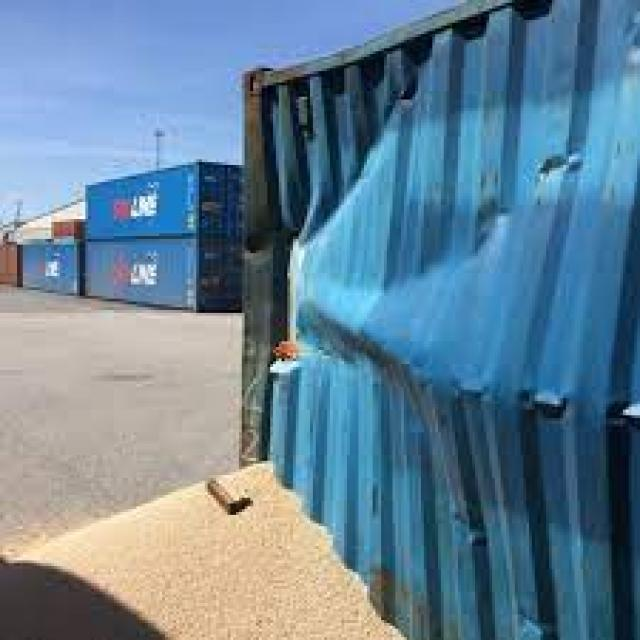dent: (285, 57, 627, 590), (212, 66, 293, 486)
